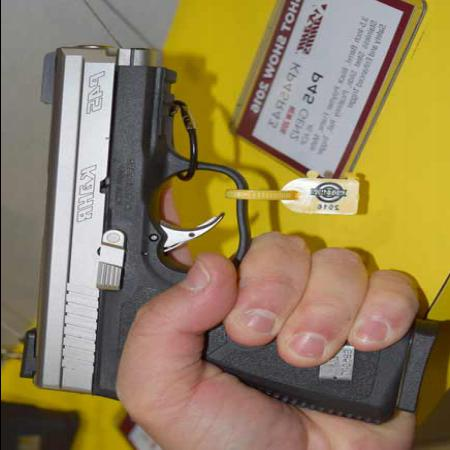Pistol: (18, 42, 424, 424)
